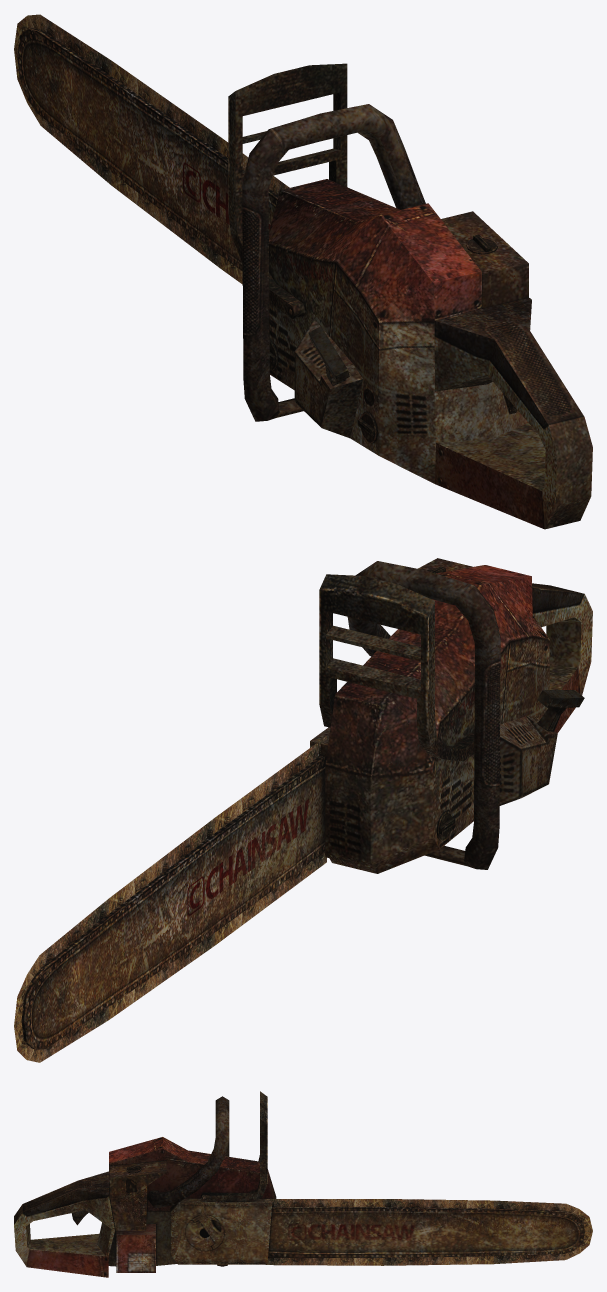
Rendered from chainsaw.FBX.
The picture shows the model from 3 angles, top to bottom: view 1: azimuth 30°, elevation 25°; view 2: azimuth 150°, elevation 25°; view 3: azimuth 270°, elevation 25°; orthographic projection. The views are drawn at different scales.
Parts seen in each view (by area): view 1: chainsaw; view 2: chainsaw; view 3: chainsaw.
Part boxes in pixels (bbox=[...]): chainsaw: bbox=[14, 14, 592, 529]; chainsaw: bbox=[14, 558, 592, 1062]; chainsaw: bbox=[14, 1091, 592, 1277].
Bounding box in the file's own units: 0.1806 × 0.302 × 1.01.
